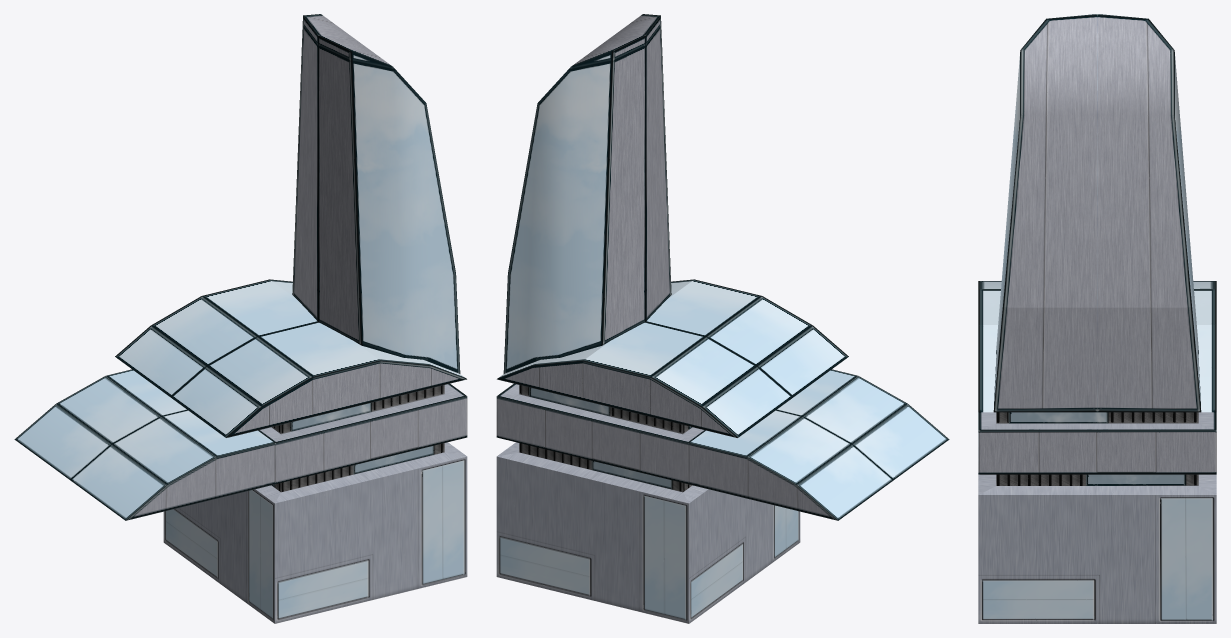
The model's file is Building_Top_07.dae.
3 views of the same model, side by side, from view 1: azimuth 30°, elevation 25°; view 2: azimuth 150°, elevation 25°; view 3: azimuth 270°, elevation 25° (orthographic). The views are drawn at different scales.
Visible parts, largest first — view 1: Building_Top_07_Base, Building_Top_07_Spire, Building_Top_07_Lvl2, Building_Top_07_Lvl1; view 2: Building_Top_07_Base, Building_Top_07_Spire, Building_Top_07_Lvl2, Building_Top_07_Lvl1; view 3: Building_Top_07_Spire, Building_Top_07_Base, Building_Top_07_Lvl2.
Boxes of the visible parts, x1,y1,x2,y2 form: Building_Top_07_Base: (163, 383, 467, 623); Building_Top_07_Spire: (292, 14, 460, 373); Building_Top_07_Lvl2: (115, 279, 466, 437); Building_Top_07_Lvl1: (14, 369, 274, 520); Building_Top_07_Base: (496, 383, 800, 623); Building_Top_07_Spire: (503, 14, 671, 373); Building_Top_07_Lvl2: (497, 279, 848, 437); Building_Top_07_Lvl1: (689, 369, 949, 520); Building_Top_07_Spire: (993, 14, 1201, 412); Building_Top_07_Base: (978, 412, 1216, 623); Building_Top_07_Lvl2: (978, 281, 1216, 412).
Bounding box in the file's own units: 79.95 × 117 × 45.14.
